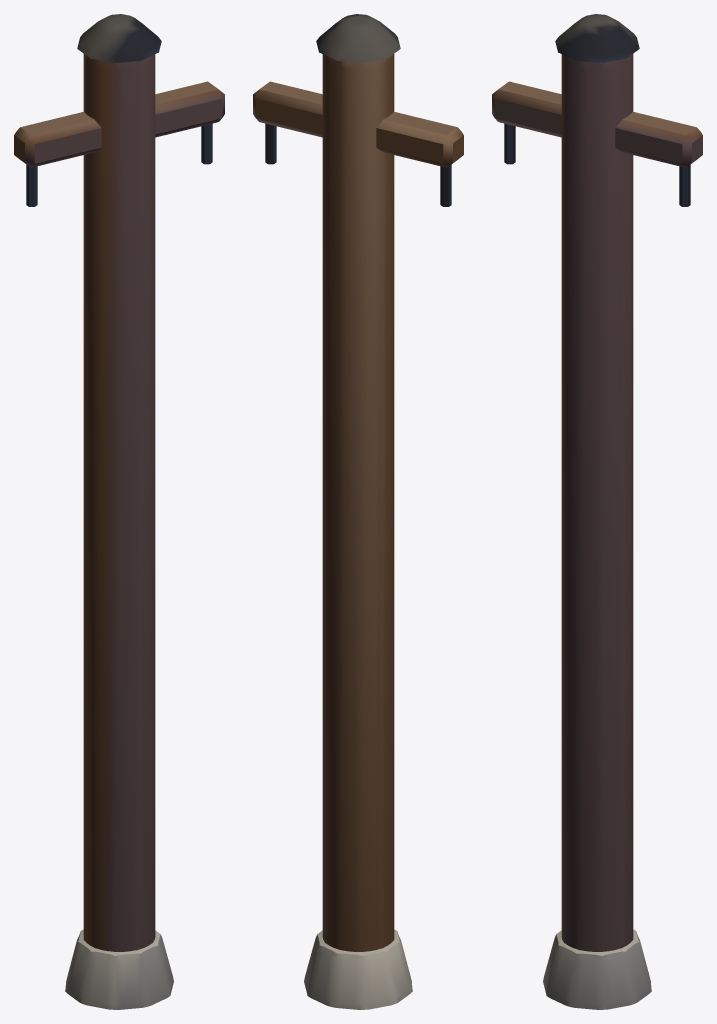
The model's file is LightPole.fbx.
3 views of the same model, side by side, from view 1: azimuth 30°, elevation 25°; view 2: azimuth 150°, elevation 25°; view 3: azimuth 330°, elevation 25° (orthographic).
Parts seen in each view (by area): view 1: SM_Yard_LightPole; view 2: SM_Yard_LightPole; view 3: SM_Yard_LightPole.
Boxes of the visible parts, bbox=[...] form: SM_Yard_LightPole: bbox=[14, 14, 224, 1009]; SM_Yard_LightPole: bbox=[253, 14, 463, 1009]; SM_Yard_LightPole: bbox=[492, 14, 702, 1009].
Bounding box in the file's own units: 1.6 × 7.4 × 0.7714.
